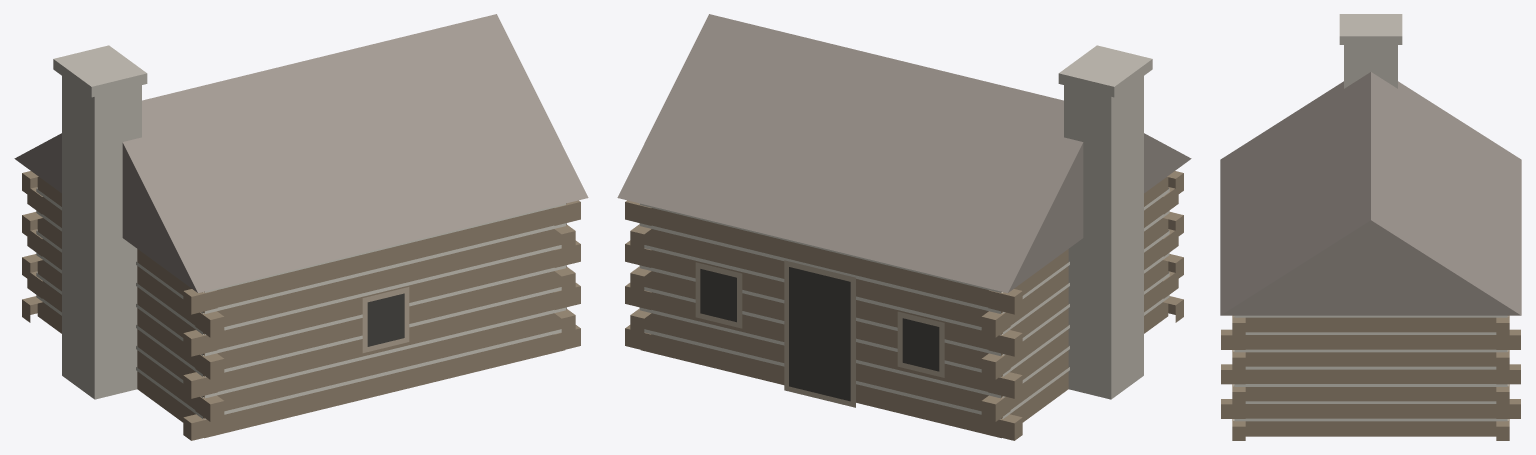
Rendered from philo_carpenter_log_shop__log_1832.glb.
3 renders of one model, left to right at view 1: azimuth 30°, elevation 25°; view 2: azimuth 150°, elevation 25°; view 3: azimuth 270°, elevation 25°, orthographic. The views are drawn at different scales.
Parts seen in each view (by area): view 1: philo_carpenter_log_shop__log_1832; view 2: philo_carpenter_log_shop__log_1832; view 3: philo_carpenter_log_shop__log_1832.
Part boxes in pixels (left/top/right/bottom): philo_carpenter_log_shop__log_1832: left=14, top=14, right=588, bottom=440; philo_carpenter_log_shop__log_1832: left=617, top=14, right=1191, bottom=440; philo_carpenter_log_shop__log_1832: left=1220, top=14, right=1521, bottom=440.
Size of the model in its own units: 7.17 by 5.17 by 5.38.
